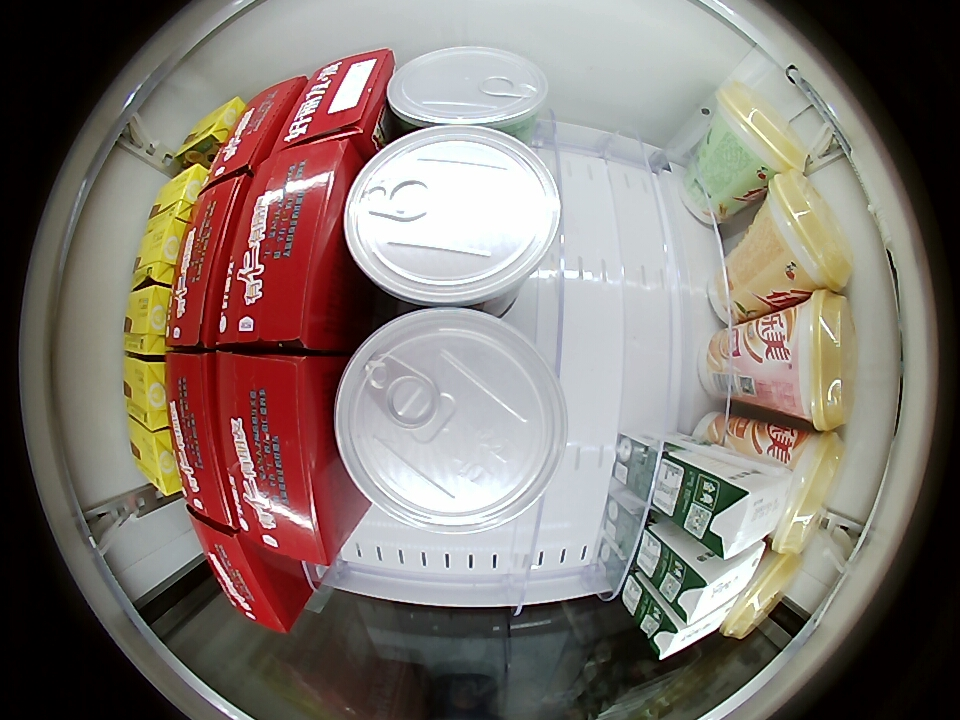haitai: (332, 305, 569, 536), (342, 125, 562, 313), (385, 45, 551, 137)
haoliyou: (212, 135, 360, 351), (211, 350, 348, 561), (190, 511, 305, 633), (170, 173, 251, 344), (275, 48, 395, 156), (165, 356, 238, 527), (206, 77, 302, 189)
jindian: (696, 462, 791, 561), (671, 541, 765, 626), (648, 600, 735, 659)
weitaningmeng: (177, 96, 241, 169), (132, 215, 188, 291), (146, 163, 208, 230), (127, 417, 179, 496), (123, 284, 175, 356), (123, 356, 172, 430)
youlemei: (759, 170, 852, 294), (712, 81, 807, 182), (787, 290, 855, 431), (773, 429, 842, 556), (724, 549, 801, 640)
